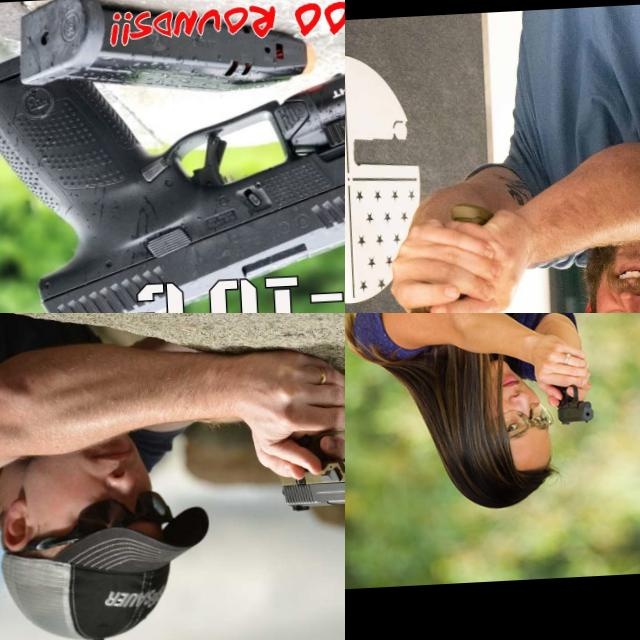handgun: (0, 23, 345, 313), (271, 422, 345, 516), (346, 297, 503, 313), (552, 382, 596, 426)
